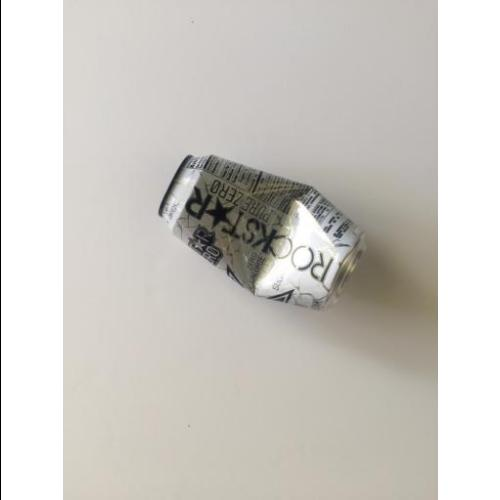metal: (160, 152, 368, 311)
